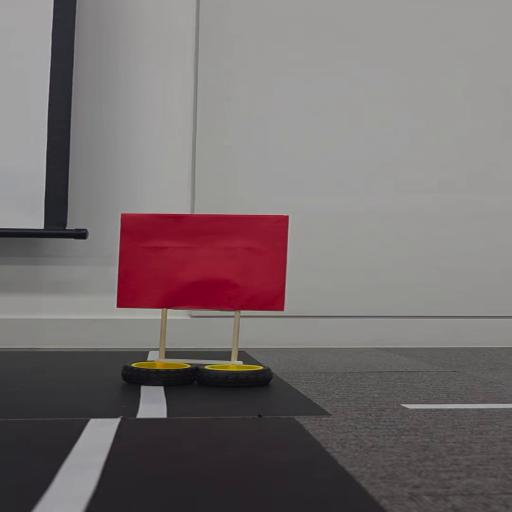Sign_A: (104, 202, 295, 389)
